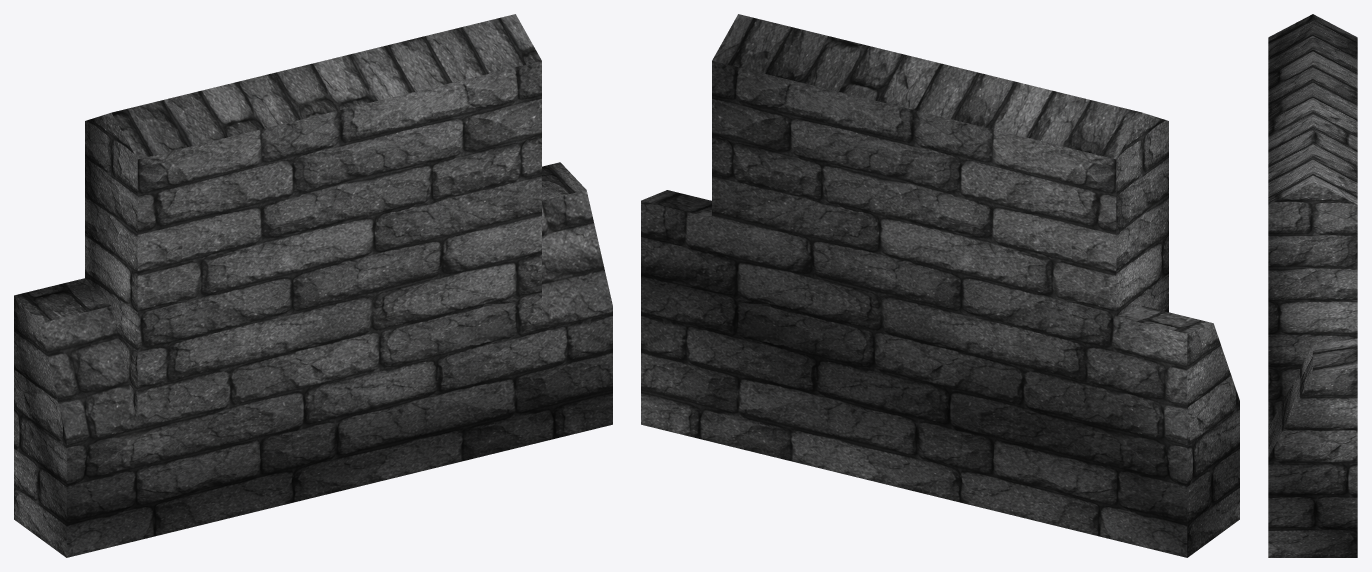
The model's file is stone defense2.glb.
3 views of the same model, side by side, from view 1: azimuth 30°, elevation 25°; view 2: azimuth 150°, elevation 25°; view 3: azimuth 270°, elevation 25° (orthographic). The views are drawn at different scales.
Visible parts, largest first — view 1: Wall.028; view 2: Wall.028; view 3: Wall.028.
Boxes of the visible parts, box(x1,y1,x2,y2) form: Wall.028: box(14, 14, 612, 557); Wall.028: box(641, 14, 1239, 557); Wall.028: box(1268, 14, 1357, 557).
Bounding box in the file's own units: 2.74 × 1.96 × 0.4572.
Materials: 1 (1 with a texture image).
